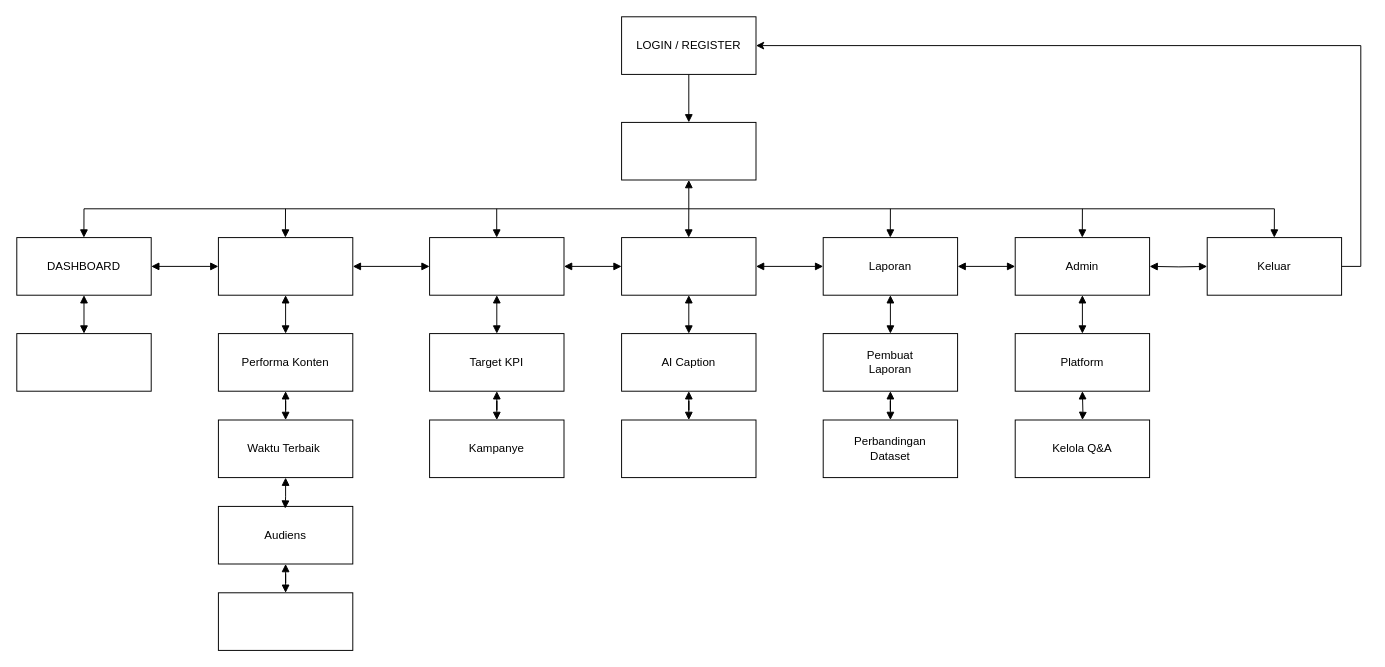
The diagram is 1385 pixels wide and 667 high, and some of its shapes have lost their labels. Here are the shapes that lost their labels. From the top down, the centre of each, then its label:
At point (688, 150): "BUAT PROYEK BARU".
At point (285, 266): "Analitik".
At point (496, 266): "Perencanaan Konten".
At point (688, 266): "Tools".
At point (83, 362): "Import Data".
At point (688, 448): "Analisis Kompetitor".
At point (285, 621): "Ringkasan Insight".
